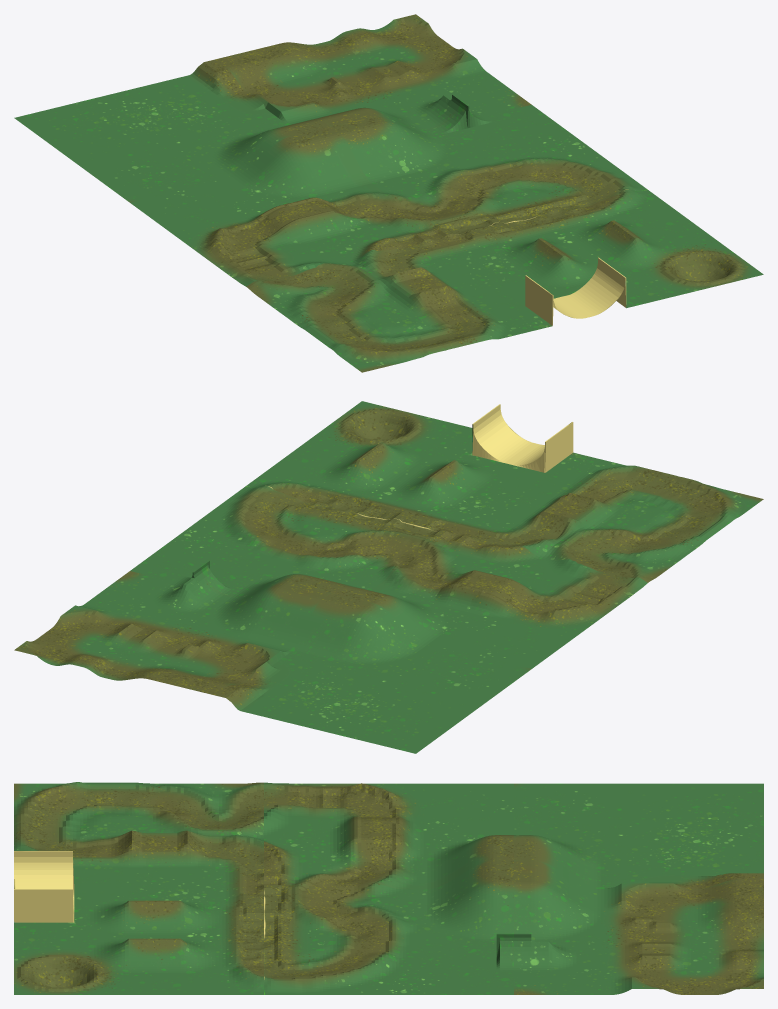
The model's file is Maybe the test map 2.fbx.
The picture shows the model from 3 angles, top to bottom: view 1: azimuth 30°, elevation 25°; view 2: azimuth 150°, elevation 25°; view 3: azimuth 270°, elevation 25°; orthographic projection. The views are drawn at different scales.
Visible parts, largest first — view 1: Grid.002; view 2: Grid.002; view 3: Grid.002.
Boxes of the visible parts, x1,y1,x2,y2 form: Grid.002: (14, 14, 763, 372); Grid.002: (14, 401, 763, 753); Grid.002: (14, 782, 763, 994).
Size of the model in its own units: 1000 by 110 by 1500.
